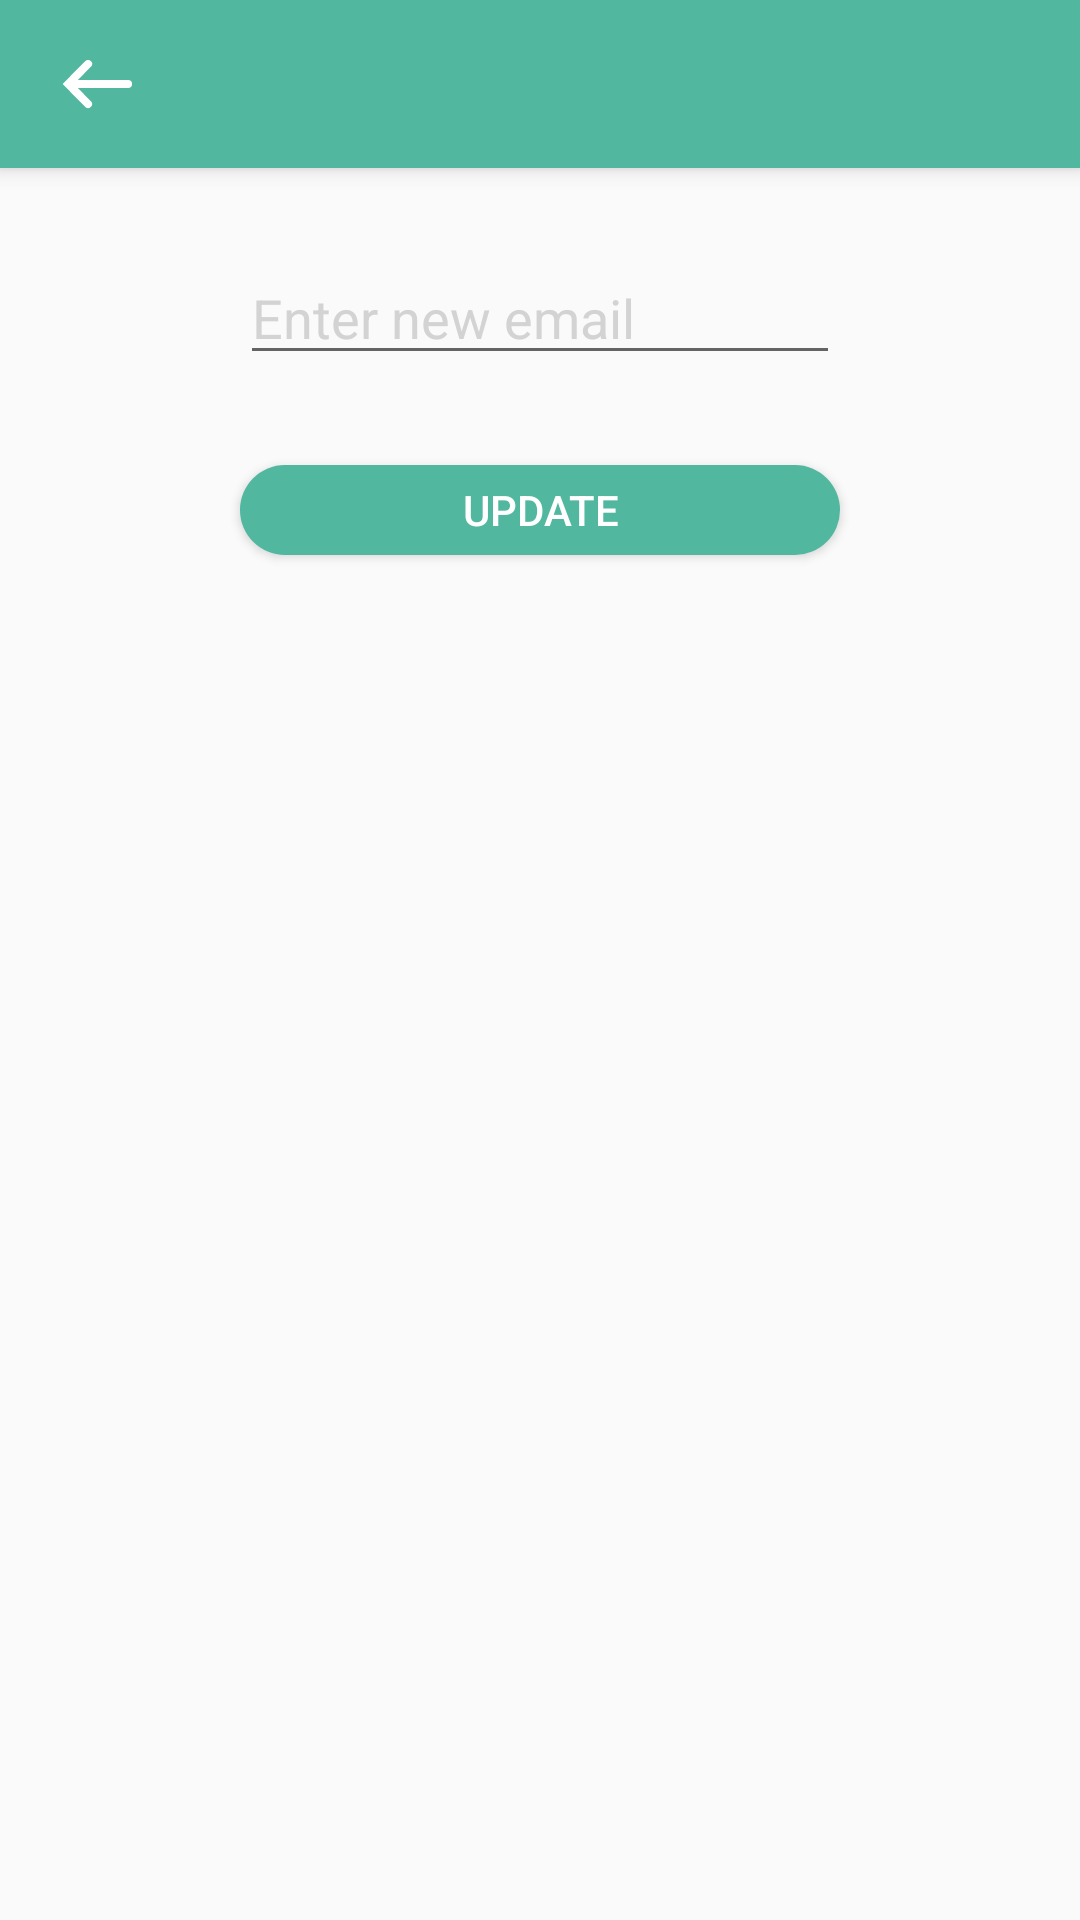

Icons on this 1080 × 1920 Android screen, each with its box as [left=x1, top=y1, right=x2, bottom=y2]:
back arrow: [left=63, top=60, right=132, bottom=108]
